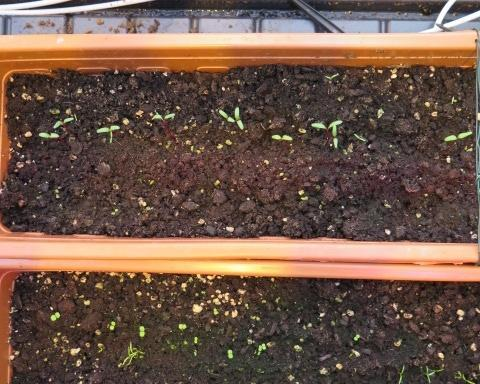crop: (440, 129, 473, 142), (49, 114, 75, 129), (148, 109, 178, 121), (268, 131, 294, 142), (34, 129, 60, 138)
weed: (46, 309, 62, 321), (105, 318, 117, 331), (224, 346, 234, 361), (137, 323, 146, 338), (350, 331, 361, 341), (175, 321, 188, 329)
